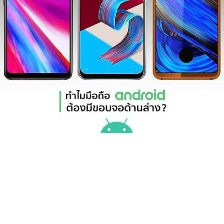phone: (1, 0, 76, 83), (150, 0, 223, 84), (75, 0, 148, 82)
